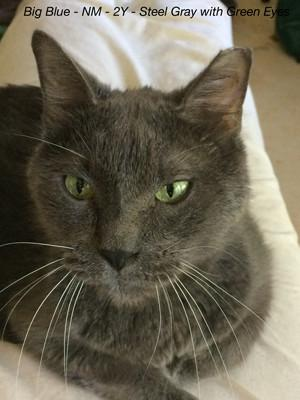rblue: (8, 25, 277, 327)
